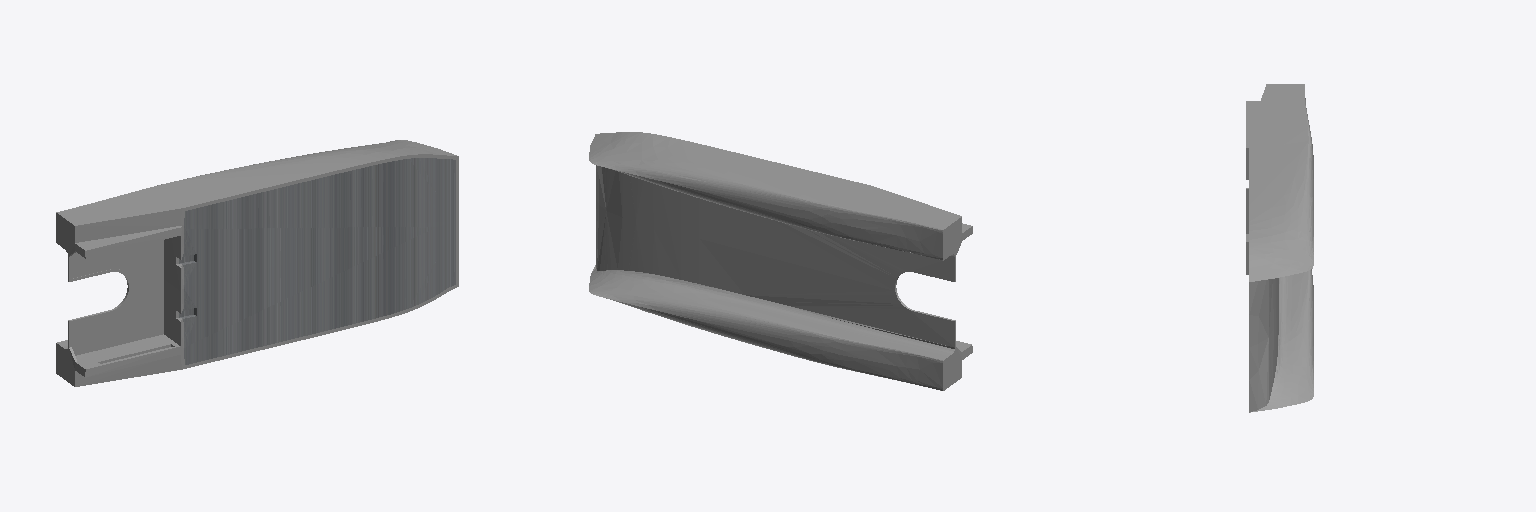
3 renders of one model, left to right at view 1: azimuth 30°, elevation 25°; view 2: azimuth 150°, elevation 25°; view 3: azimuth 270°, elevation 25°, orthographic.
Visible parts, largest first — view 1: Default_group_004; view 2: Default_group_004; view 3: Default_group_004.
Boxes of the visible parts, <box> form: Default_group_004: <box>56,140,458,386</box>; Default_group_004: <box>589,132,972,390</box>; Default_group_004: <box>1246,84,1313,412</box>.
Size of the model in its own units: 146 by 59.95 by 23.04.
Materials: 6 (1 with a texture image).